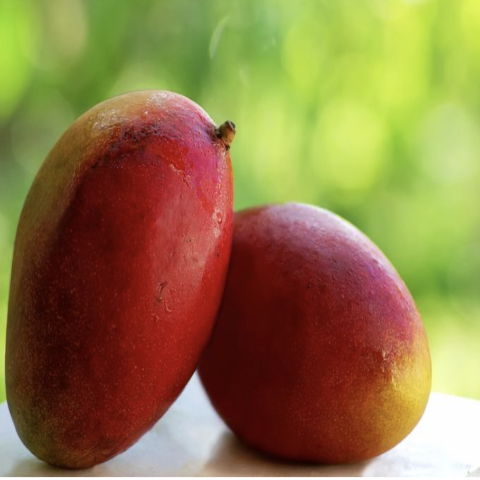mango: (1, 85, 263, 479), (164, 199, 455, 475)
